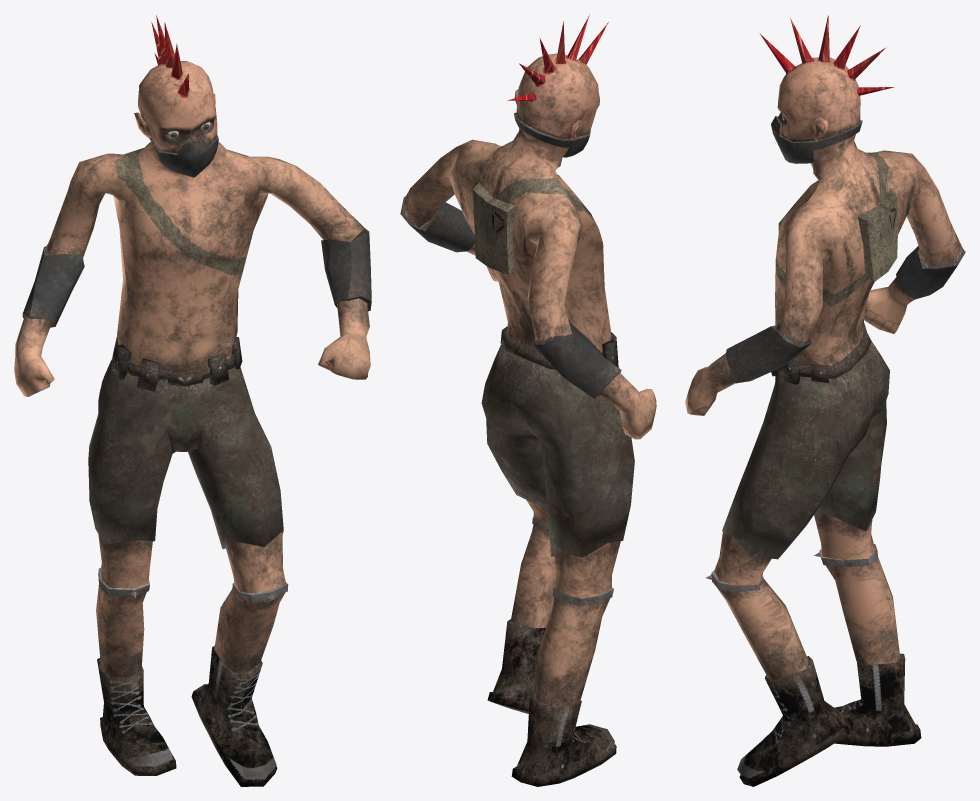
File: Anim_ataque_f1_npc2.0011.obj
The picture shows the model from 3 angles, left to right: view 1: azimuth 30°, elevation 25°; view 2: azimuth 150°, elevation 25°; view 3: azimuth 270°, elevation 25°; orthographic projection.
Visible parts, largest first — view 1: polySurface1; view 2: polySurface1; view 3: polySurface1.
Boxes of the visible parts, bbox=[...] form: polySurface1: bbox=[14, 15, 371, 786]; polySurface1: bbox=[400, 14, 656, 786]; polySurface1: bbox=[685, 15, 965, 786].
Size of the model in its own units: 4.24 by 10.16 by 3.48.
